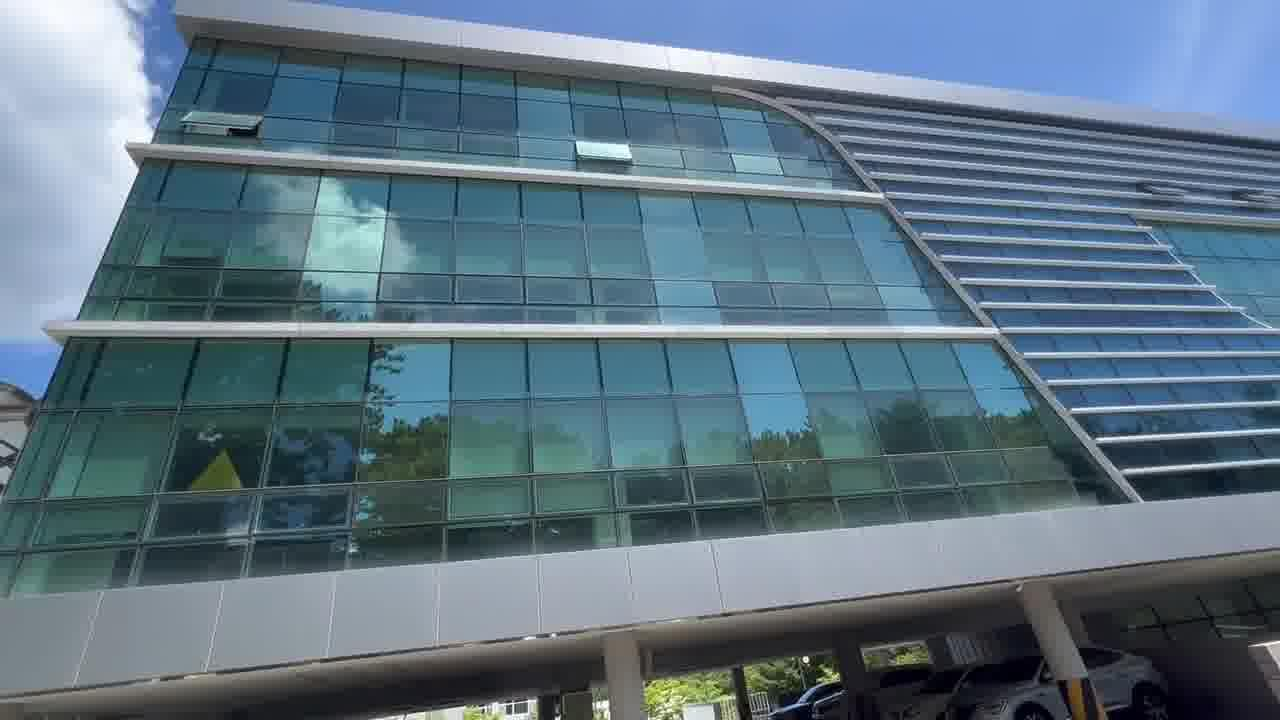building: (58, 6, 1280, 710)
